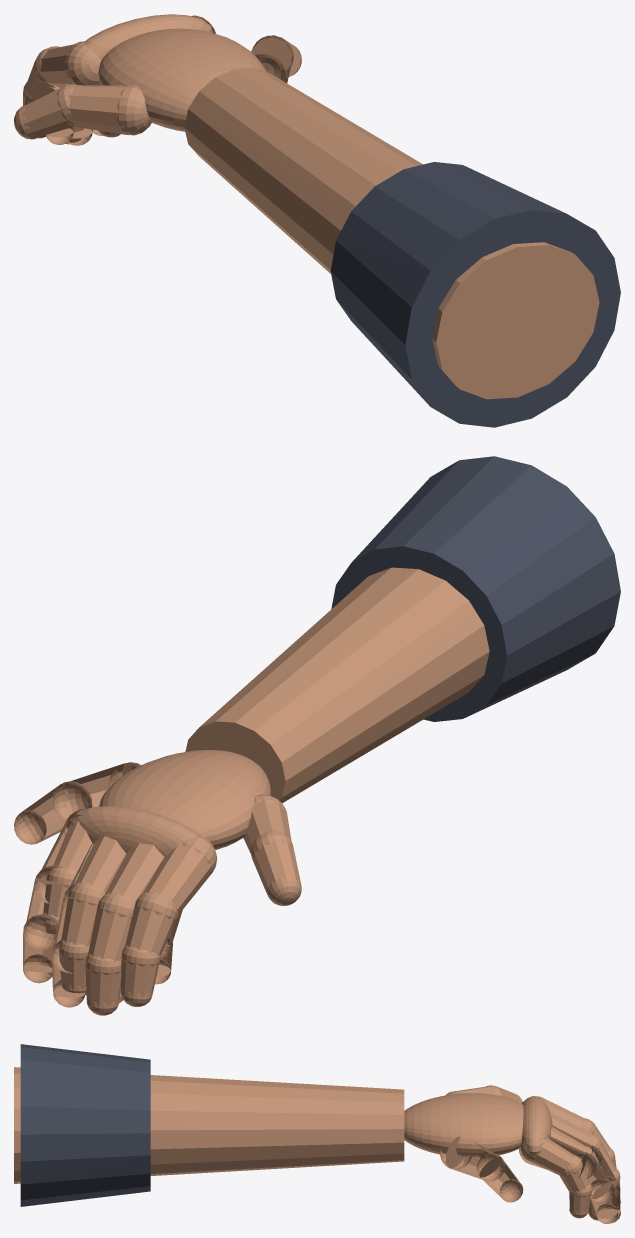
The model's file is hands.glb.
The picture shows the model from 3 angles, top to bottom: view 1: azimuth 30°, elevation 25°; view 2: azimuth 150°, elevation 25°; view 3: azimuth 270°, elevation 25°; orthographic projection. The views are drawn at different scales.
Parts seen in each view (by area): view 1: arm_r_skin, arm_r_sleeve, arm_l_skin; view 2: arm_r_skin, arm_r_sleeve, arm_l_skin; view 3: arm_r_skin, arm_r_sleeve, arm_l_skin.
Boxes of the visible parts, box(x1,y1,x2,y2) form: arm_r_skin: box(14, 14, 599, 399); arm_r_sleeve: box(330, 162, 620, 427); arm_l_skin: box(46, 15, 301, 145); arm_r_skin: box(42, 567, 489, 1015); arm_r_sleeve: box(331, 456, 620, 721); arm_l_skin: box(14, 762, 182, 1007); arm_r_skin: box(14, 1067, 620, 1220); arm_r_sleeve: box(20, 1044, 150, 1206); arm_l_skin: box(440, 1125, 620, 1223).
Size of the model in its own units: 0.1733 by 0.1384 by 0.4665.
